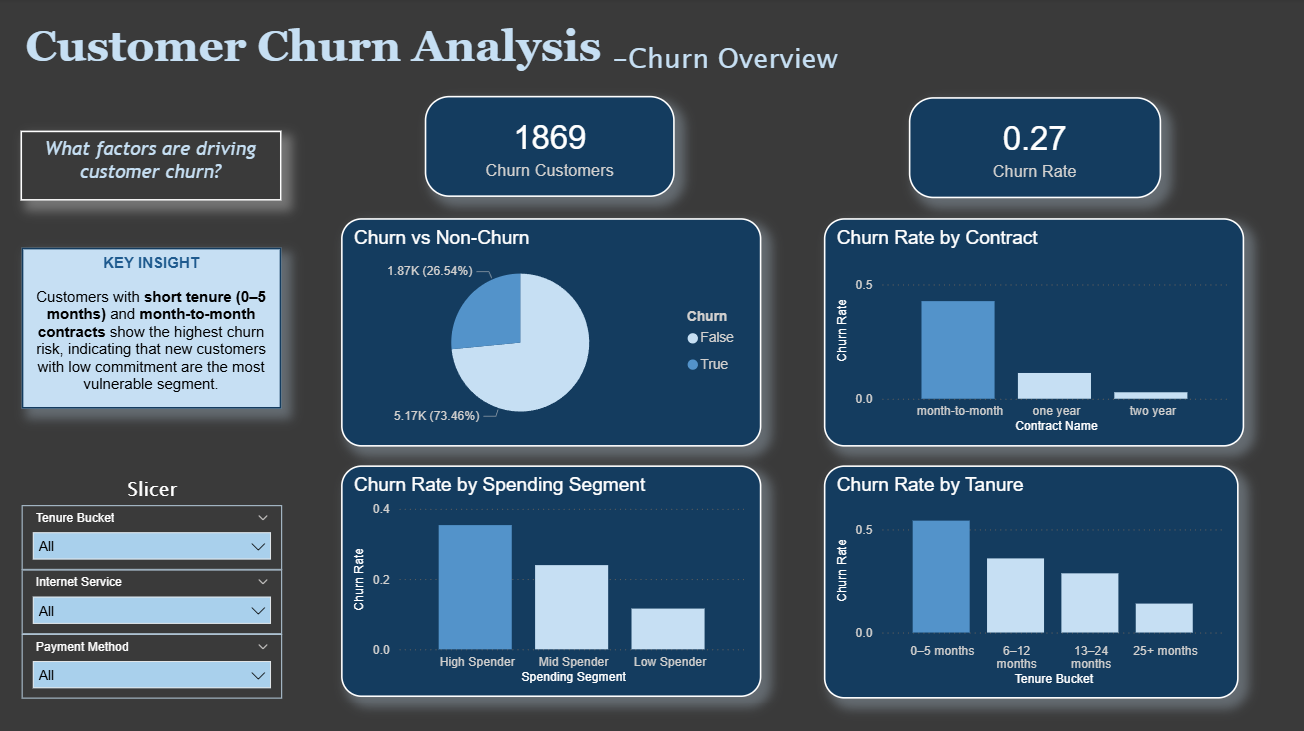

This screenshot's page, from the dashboard's own definition file:
{"tool":"powerbi","page":{"name":"Churn Overview","canvas":[1280,720],"ordinal":1},"visuals":[{"type":"card","fields":{"Values":["public churn_dashboard_dataset.Churn Customers"]},"box":[418,95.1,244.3,98.4],"z":0},{"type":"card","fields":{"Values":["public churn_dashboard_dataset.Churn Rate"]},"box":[890.2,96.7,245.9,98.4],"z":1000},{"type":"pieChart","title":"Churn vs Non-Churn","fields":{"Y":["CountNonNull(public churn_dashboard_dataset.churn)"],"Category":["public churn_dashboard_dataset.churn"]},"box":[336.1,214.8,409.8,223],"z":2000},{"type":"clusteredColumnChart","title":"Churn Rate by Contract","fields":{"Category":["public churn_dashboard_dataset.contract_name"],"Y":["public churn_dashboard_dataset.Churn Rate"]},"box":[808.2,214.8,409.8,223],"z":3000},{"type":"clusteredColumnChart","title":"Churn Rate by Spending Segment","fields":{"Category":["public churn_dashboard_dataset.spending_segment"],"Y":["public churn_dashboard_dataset.Churn Rate"]},"box":[336.1,455.7,409.8,226.2],"z":4000},{"type":"clusteredColumnChart","title":"Churn Rate by Tanure","fields":{"Category":["public churn_dashboard_dataset.tenure_bucket"],"Y":["public churn_dashboard_dataset.Churn Rate"]},"box":[808.2,455.7,404.9,227.9],"z":5000},{"type":"textbox","box":[24.2,18.2,850,78.8],"z":6000},{"type":"textbox","box":[24.2,128.8,254.5,68.2],"z":7000},{"type":"textbox","box":[24.7,244.2,253.2,157.1],"z":8000},{"type":"textbox","box":[25.1,460.6,255,42.7],"z":9000},{"type":"slicer","title":"Risk Level","fields":{"Values":["public churn_dashboard_dataset.tenure_bucket"]},"box":[25.1,494.5,253.7,62.7],"z":10000},{"type":"slicer","title":"Risk Level","fields":{"Values":["public churn_dashboard_dataset.internet_service"]},"box":[25.1,557.7,253.7,62.8],"z":11000},{"type":"slicer","title":"Risk Level","fields":{"Values":["public churn_dashboard_dataset.payment_name"]},"box":[25.1,620.5,253.7,62.8],"z":12000}]}

Visuals, with their boxes in screenshot pixels (x1, y1, x2, y2), scaled from the page's 1280x720 canvas onto the 1304x731 screenshot:
card - public churn_dashboard_dataset.Churn Customers: bbox=(426, 97, 675, 196)
card - public churn_dashboard_dataset.Churn Rate: bbox=(907, 98, 1157, 198)
"Churn vs Non-Churn" pieChart: bbox=(342, 218, 760, 444)
"Churn Rate by Contract" clusteredColumnChart: bbox=(823, 218, 1241, 444)
"Churn Rate by Spending Segment" clusteredColumnChart: bbox=(342, 463, 760, 692)
"Churn Rate by Tanure" clusteredColumnChart: bbox=(823, 463, 1236, 694)
textbox: bbox=(25, 18, 891, 98)
textbox: bbox=(25, 131, 284, 200)
textbox: bbox=(25, 248, 283, 407)
textbox: bbox=(26, 468, 285, 511)
"Risk Level" slicer: bbox=(26, 502, 284, 566)
"Risk Level" slicer: bbox=(26, 566, 284, 630)
"Risk Level" slicer: bbox=(26, 630, 284, 694)
